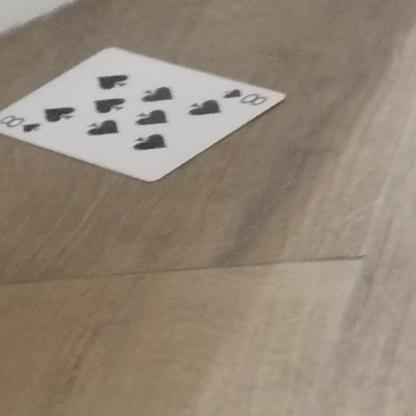8S: (1, 110, 46, 141), (218, 89, 282, 110)
